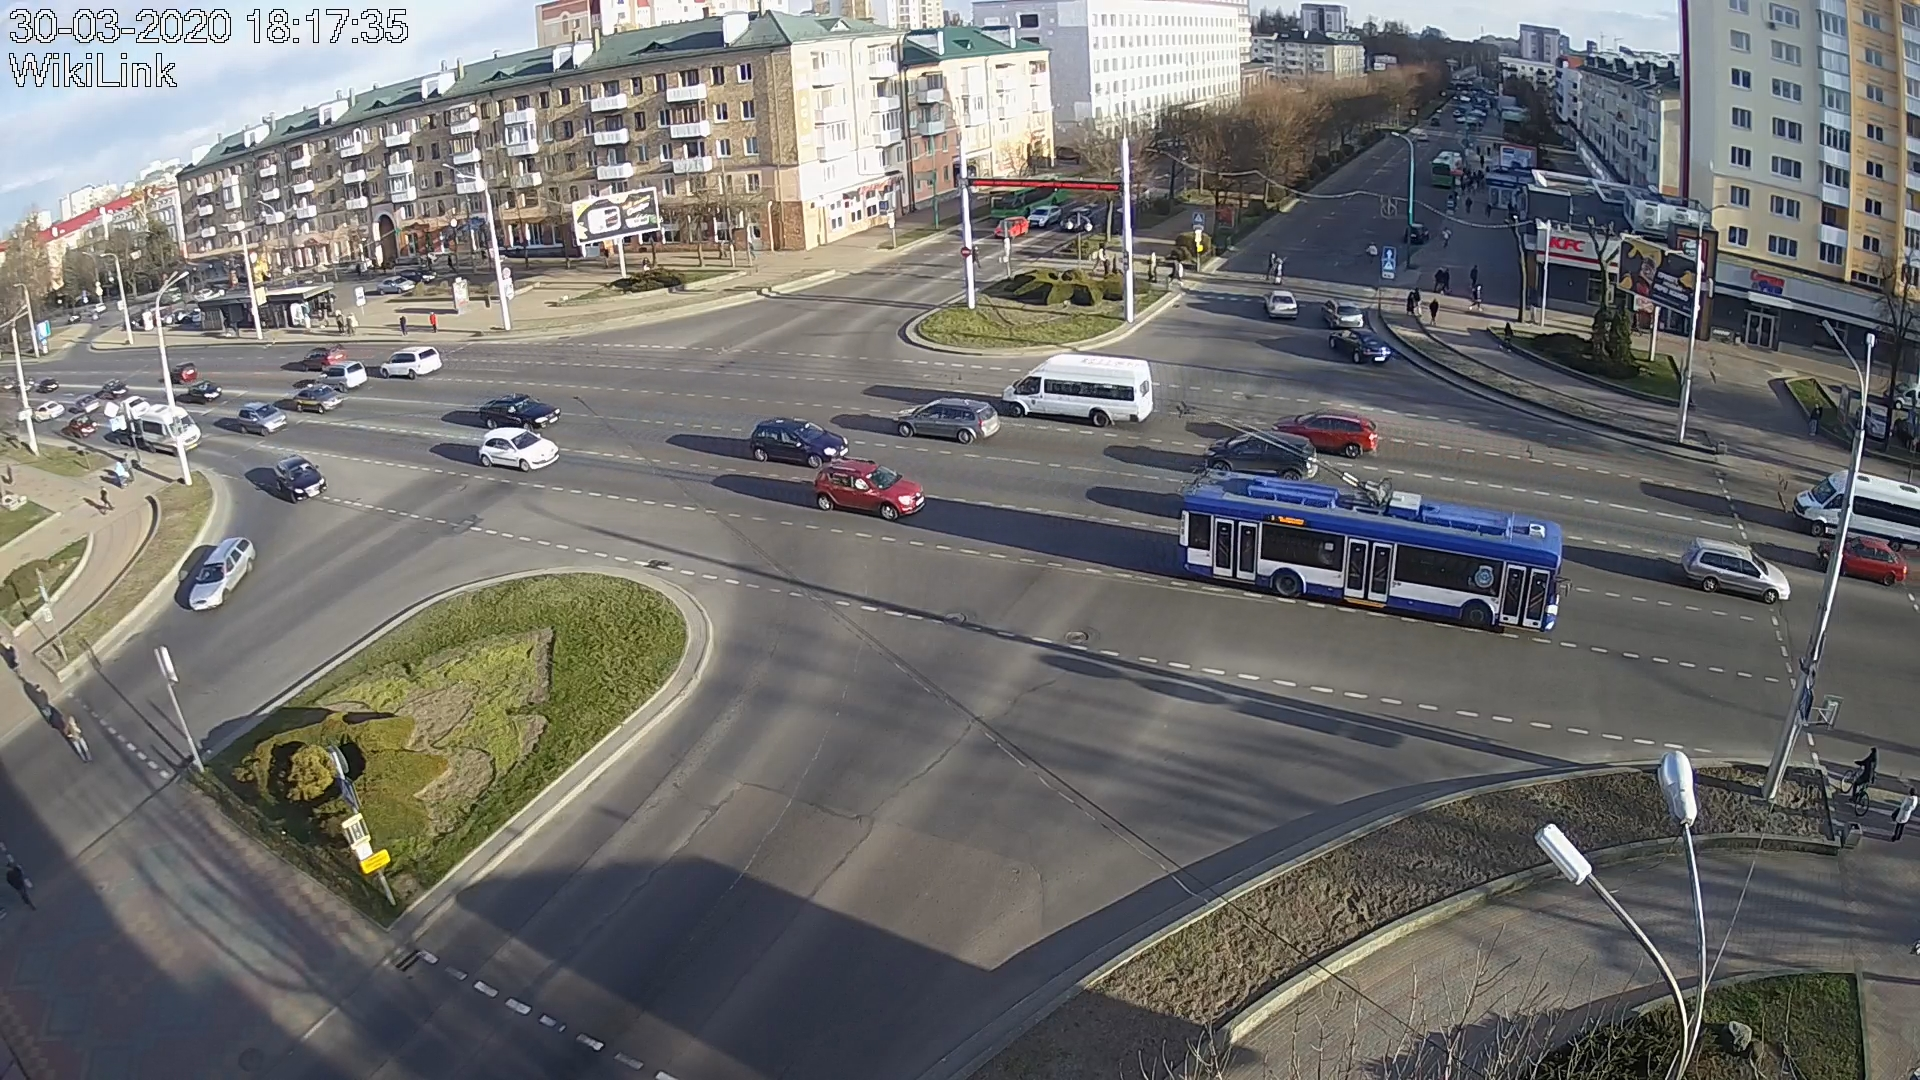bus: (1178, 469, 1575, 636), (992, 171, 1065, 220)
car: (1002, 353, 1154, 429), (1791, 469, 1920, 553), (1683, 537, 1791, 604), (814, 458, 924, 520), (1203, 431, 1317, 483), (1273, 407, 1379, 458), (189, 537, 256, 612), (750, 417, 849, 467), (893, 398, 1000, 444), (1816, 537, 1907, 587), (477, 426, 559, 472), (141, 404, 202, 456), (480, 394, 560, 433), (276, 455, 327, 502), (1329, 328, 1391, 365), (380, 345, 443, 380), (237, 401, 286, 436), (316, 360, 367, 392), (291, 384, 343, 414), (1321, 299, 1364, 328), (302, 344, 345, 371), (1265, 290, 1298, 318), (994, 216, 1029, 241), (1027, 204, 1062, 227)
